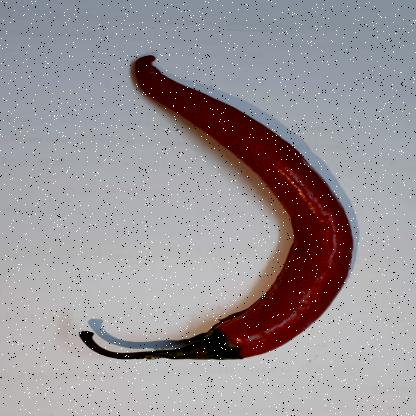chili: (67, 55, 354, 361)
